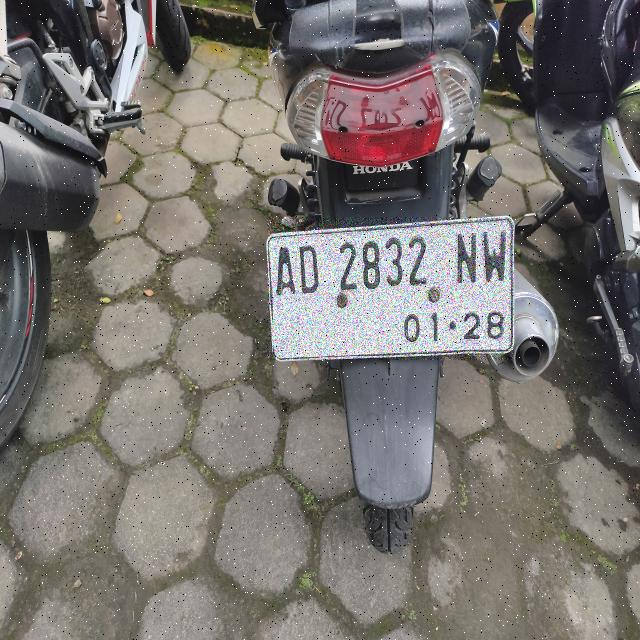plate: (267, 217, 513, 359)
